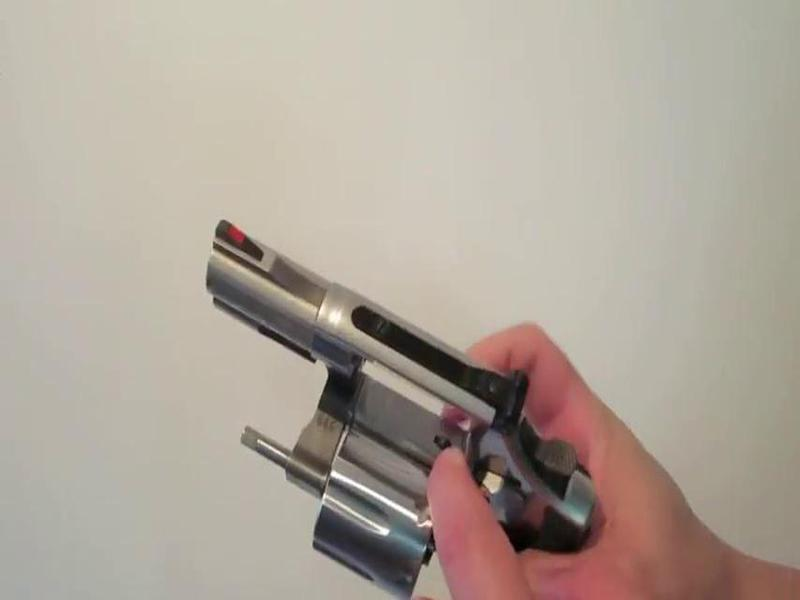Revolver: (154, 199, 642, 598)
